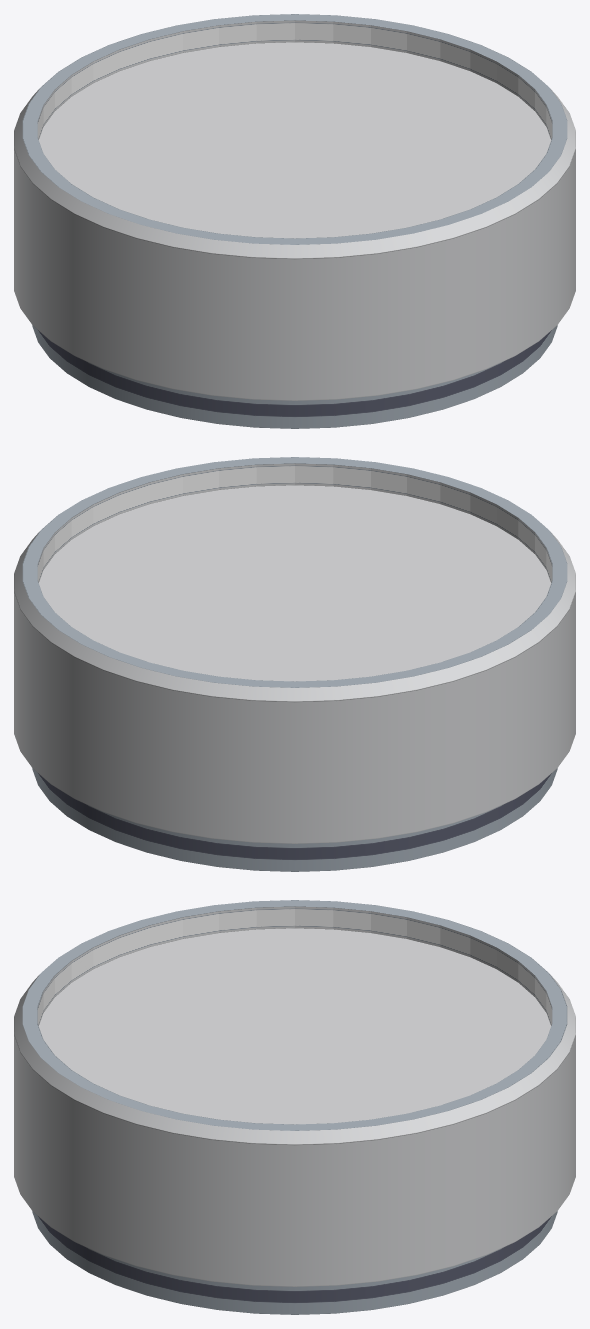
Rendered from Podium_02.FBX.
The picture shows the model from 3 angles, top to bottom: view 1: azimuth 30°, elevation 25°; view 2: azimuth 150°, elevation 25°; view 3: azimuth 270°, elevation 25°; orthographic projection.
Parts seen in each view (by area): view 1: Podium_02; view 2: Podium_02; view 3: Podium_02.
Boxes of the visible parts, x1,y1,x2,y2 form: Podium_02: [14, 14, 575, 428]; Podium_02: [14, 457, 575, 871]; Podium_02: [14, 900, 575, 1314].
Bounding box in the file's own units: 4.02 × 1.48 × 4.01.
1 material, 1 textured.
